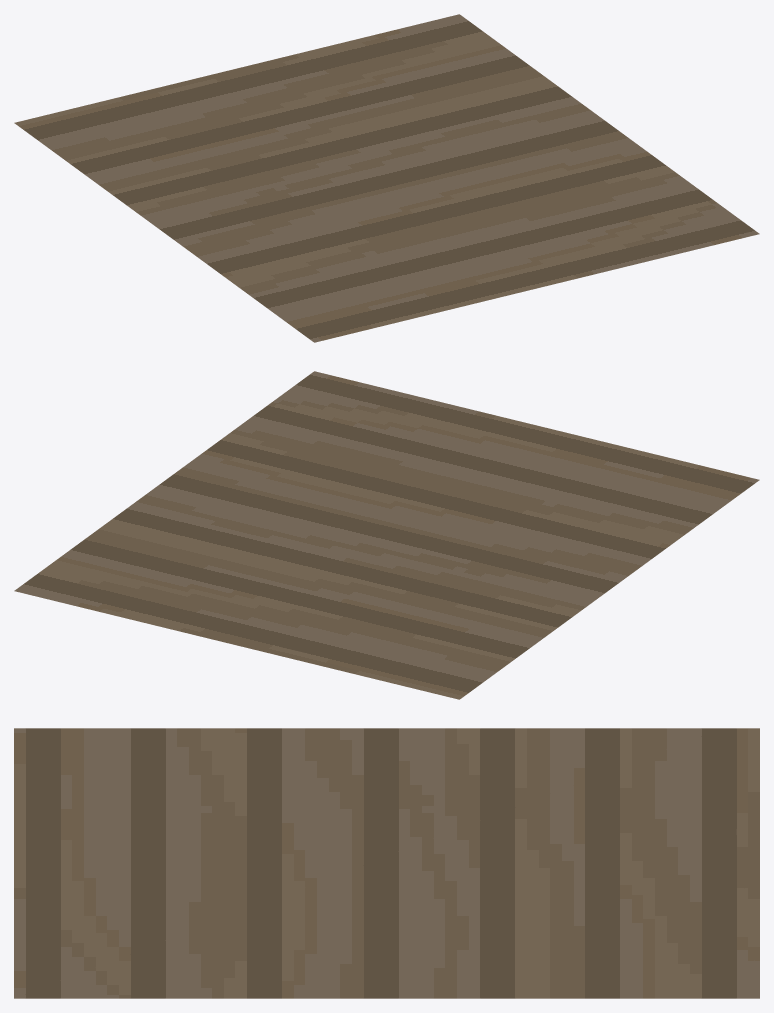
Rendered from kd_stage_135b75_4_16_bounded_piece_8.glb.
The picture shows the model from 3 angles, top to bottom: view 1: azimuth 30°, elevation 25°; view 2: azimuth 150°, elevation 25°; view 3: azimuth 270°, elevation 25°; orthographic projection. The views are drawn at different scales.
Parts seen in each view (by area): view 1: kd_stage_135b75_4_16_bounded_piece_8; view 2: kd_stage_135b75_4_16_bounded_piece_8; view 3: kd_stage_135b75_4_16_bounded_piece_8.
Boxes of the visible parts, <box> form: kd_stage_135b75_4_16_bounded_piece_8: <box>14,14,759,342</box>; kd_stage_135b75_4_16_bounded_piece_8: <box>14,371,759,699</box>; kd_stage_135b75_4_16_bounded_piece_8: <box>14,728,759,998</box>.
Bounding box in the file's own units: 0.0995 × 0 × 0.1162.
Materials: 1 (1 with a texture image).
